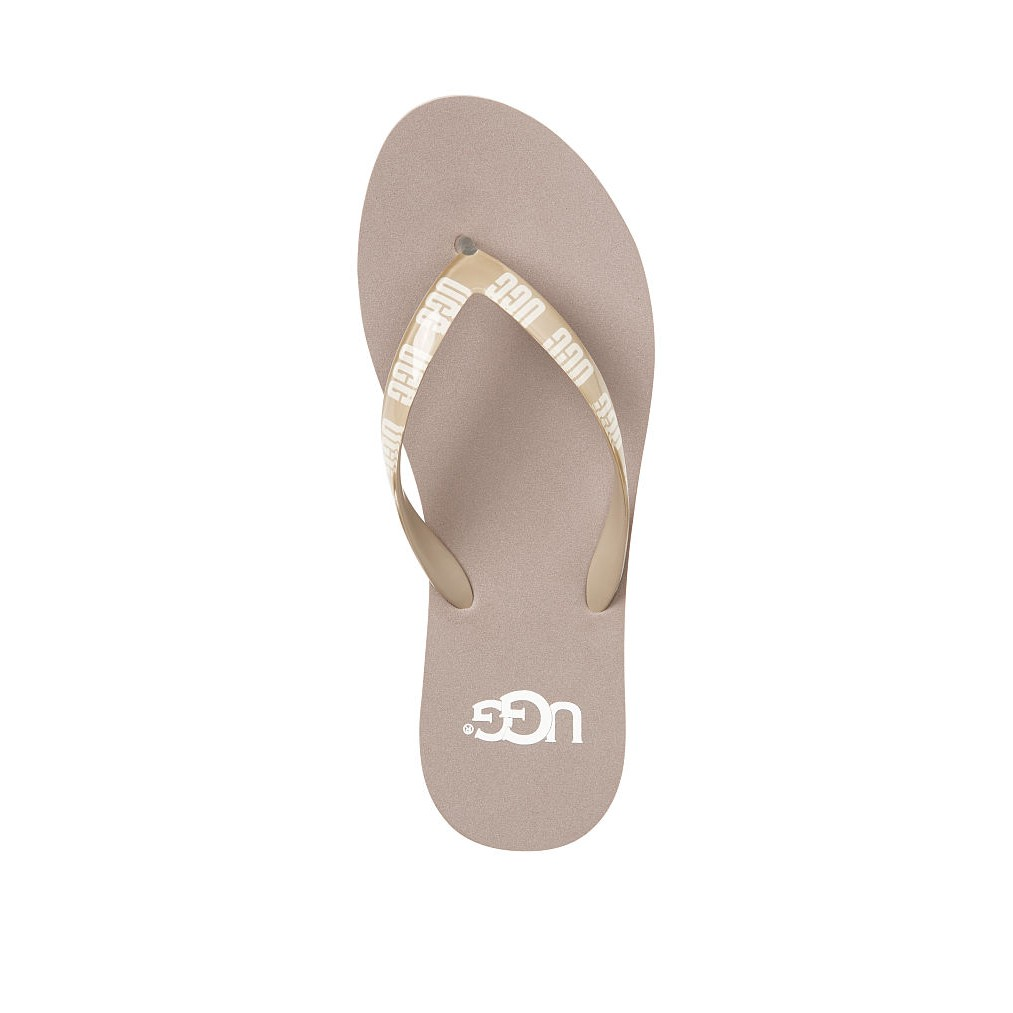flip_flops: (353, 92, 660, 851)
